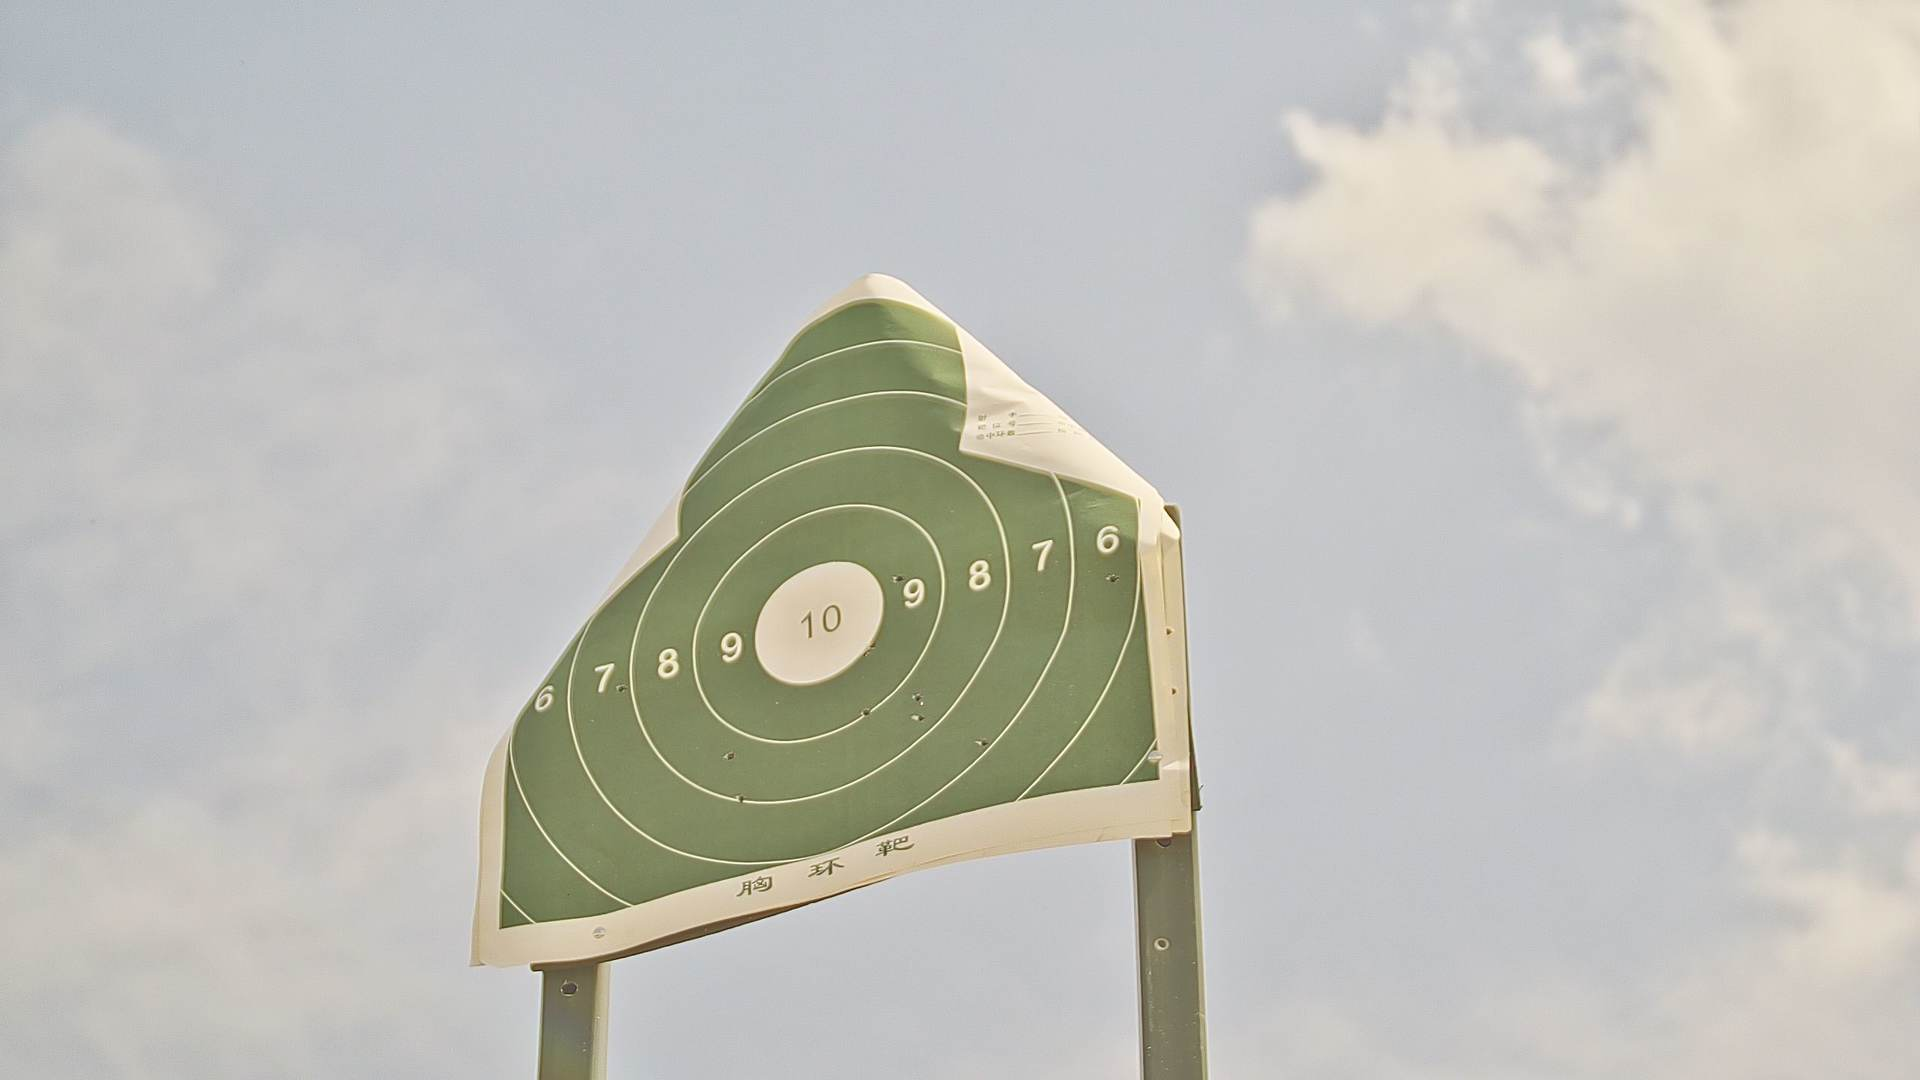hole: (860, 647, 872, 658), (866, 640, 880, 647), (894, 574, 905, 583), (724, 750, 735, 760), (862, 707, 872, 717), (736, 793, 744, 804), (617, 683, 626, 692), (980, 738, 990, 746), (1108, 574, 1117, 582), (914, 694, 923, 702), (915, 713, 924, 721)
target: (496, 299, 1168, 934)
ten: (752, 558, 886, 687)
